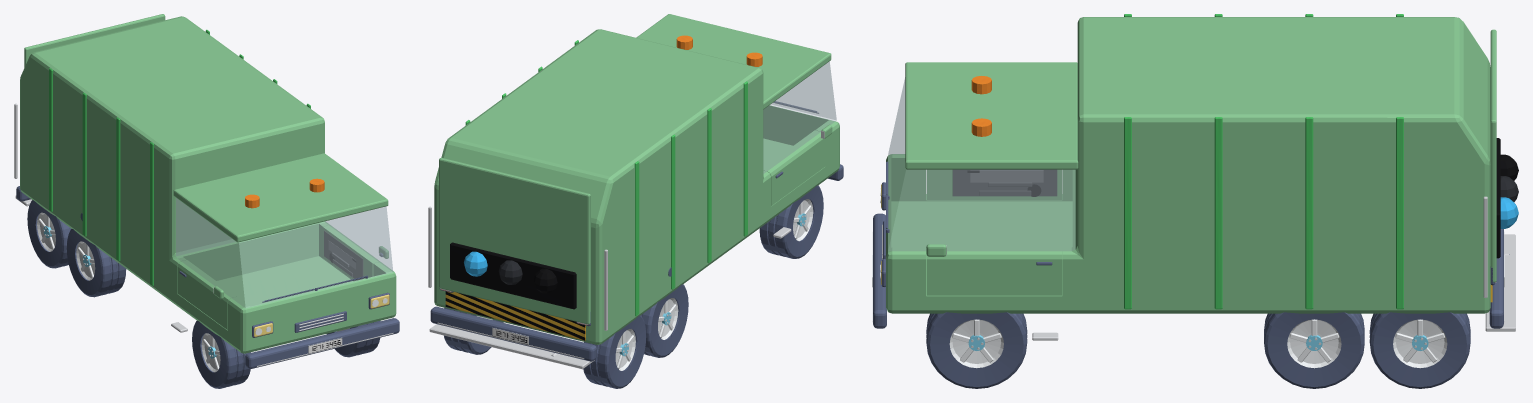
The model's file is V07_garbage_truck_v3.glb.
3 renders of one model, left to right at view 1: azimuth 30°, elevation 25°; view 2: azimuth 150°, elevation 25°; view 3: azimuth 270°, elevation 25°, orthographic. The views are drawn at different scales.
Parts seen in each view (by area): view 1: Body, Glass, Static, Wheel_RR, Wheel_FR, Wheel_RR2, Door_R, Trunk, DoorDetail_L, Door_L, Wheel_FL; view 2: Body, Static, Trunk, Glass, Wheel_FR, Wheel_RR2, Door_R, Wheel_RR, Wheel_RL2; view 3: Body, Glass, Static, Wheel_FL, Wheel_RL2, Wheel_RL, Door_L, DoorDetail_R, Trunk, Door_R.
Part boxes in pixels (left/top/right/bottom): Body: left=20, top=16, right=396, bottom=353; Glass: left=176, top=198, right=393, bottom=308; Static: left=14, top=29, right=399, bottom=368; Wheel_RR: left=66, top=229, right=126, bottom=297; Wheel_FR: left=192, top=320, right=250, bottom=388; Wheel_RR2: left=27, top=200, right=71, bottom=268; Door_R: left=177, top=260, right=236, bottom=329; Trunk: left=24, top=14, right=165, bottom=67; DoorDetail_L: left=324, top=231, right=363, bottom=280; Door_L: left=322, top=225, right=379, bottom=280; Wheel_FL: left=327, top=320, right=380, bottom=357; Body: left=434, top=14, right=839, bottom=344; Static: left=428, top=35, right=843, bottom=369; Trunk: left=439, top=157, right=590, bottom=324; Glass: left=763, top=61, right=836, bottom=173; Wheel_FR: left=759, top=185, right=823, bottom=258; Wheel_RR2: left=583, top=315, right=646, bottom=388; Door_R: left=763, top=130, right=825, bottom=205; Wheel_RR: left=641, top=284, right=688, bottom=357; Wheel_RL2: left=444, top=308, right=503, bottom=354; Body: left=886, top=17, right=1490, bottom=313; Glass: left=888, top=77, right=1075, bottom=250; Static: left=872, top=14, right=1518, bottom=340; Wheel_FL: left=926, top=312, right=1027, bottom=388; Wheel_RL2: left=1369, top=312, right=1470, bottom=388; Wheel_RL: left=1264, top=312, right=1364, bottom=388; Door_L: left=927, top=247, right=1061, bottom=295; DoorDetail_R: left=952, top=169, right=1057, bottom=196; Trunk: left=1490, top=29, right=1496, bottom=282; Door_R: left=927, top=169, right=1061, bottom=199.
Size of what is drawn, in the model's own units: 2.64 by 3 by 6.42.
3 materials, 1 textured.
